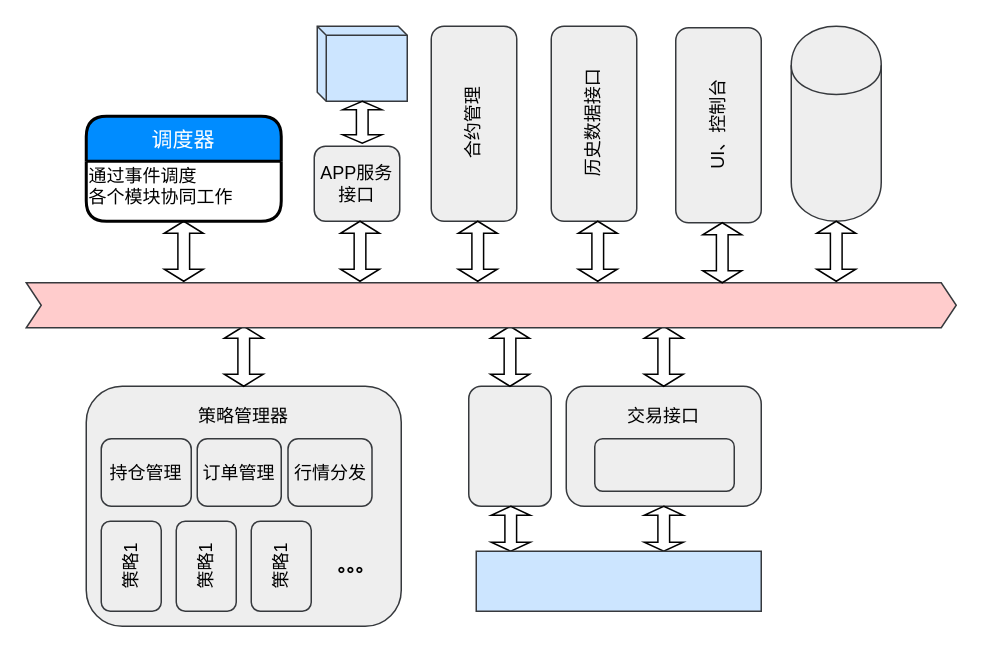
This 983x653 diagram has some shape labels left out. The centre of each missing label's shape, as x and y in pixels:
"事件总线" belongs at [490,304].
"手机app" belongs at [361,63].
"本地数据库" belongs at [835,123].
"经纪商" belongs at [618,580].
"行情接口" belongs at [509,445].
"订单拆分" belongs at [663,464].
